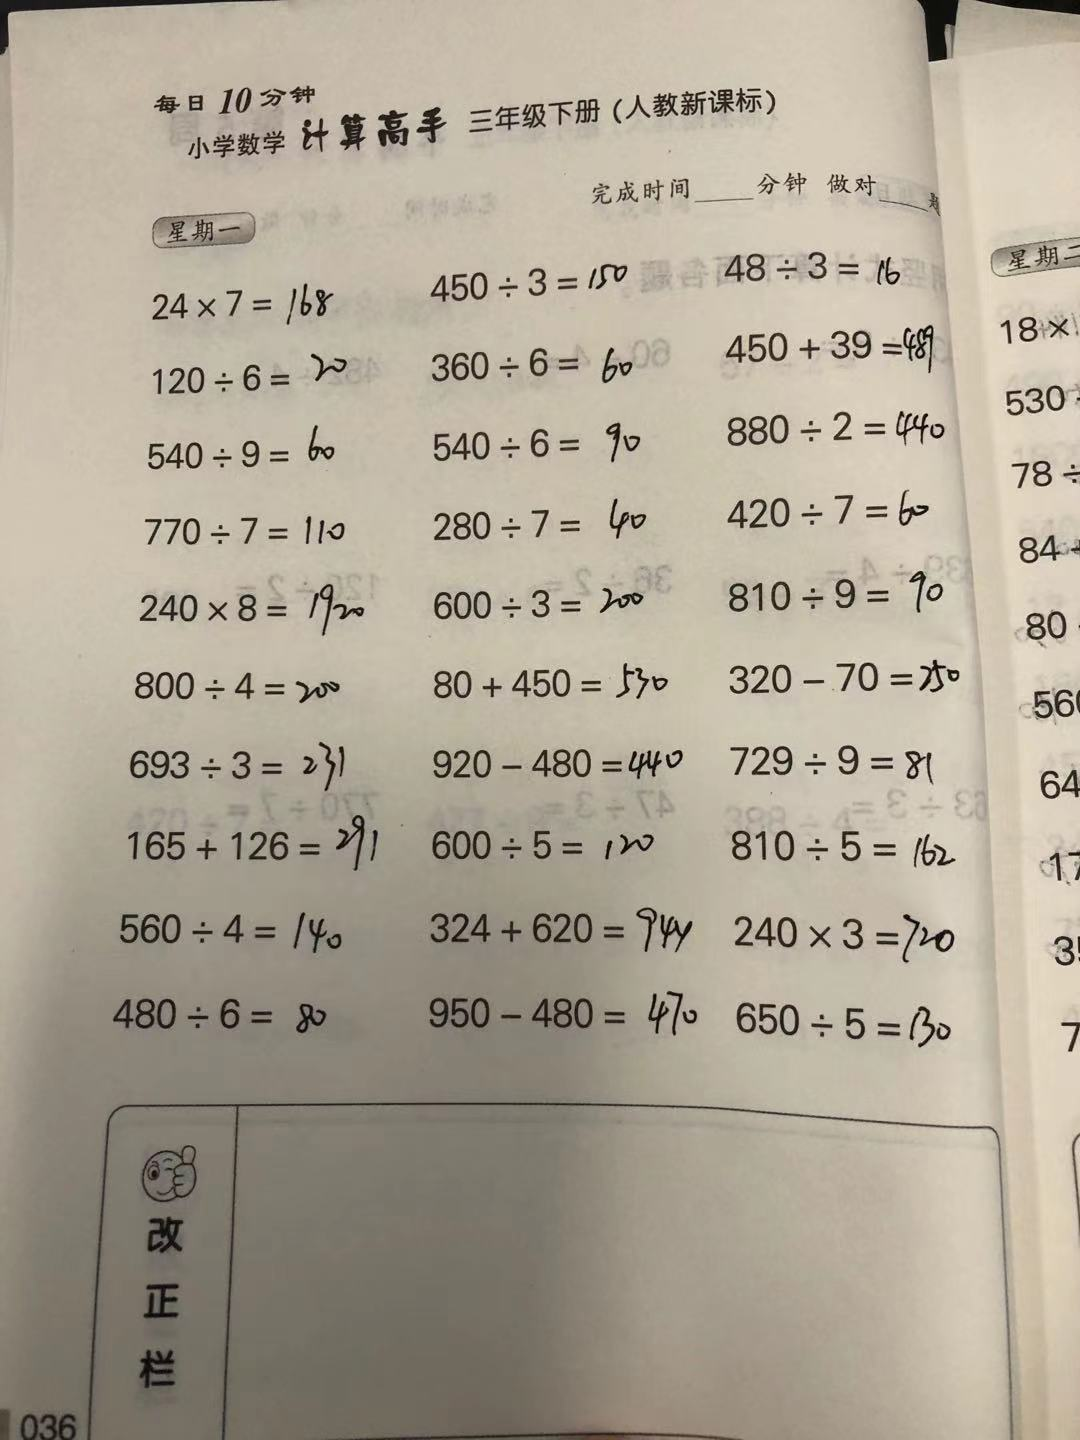equation: (404, 979, 717, 1050), (413, 899, 708, 964), (407, 653, 710, 715), (113, 812, 402, 875), (113, 578, 391, 639), (101, 901, 364, 965), (117, 732, 377, 795), (416, 495, 668, 558), (725, 821, 982, 879), (719, 645, 979, 702), (413, 418, 687, 472), (113, 664, 365, 721), (136, 502, 373, 562), (416, 735, 701, 785), (736, 993, 968, 1053), (725, 739, 970, 795), (716, 319, 962, 373), (701, 403, 951, 454), (128, 348, 362, 403), (127, 418, 358, 473), (98, 990, 354, 1039), (424, 815, 668, 865), (422, 578, 685, 624), (421, 344, 665, 392), (719, 568, 965, 616), (733, 905, 974, 952), (716, 485, 948, 533), (130, 279, 362, 325), (719, 245, 921, 293), (422, 264, 659, 299)
